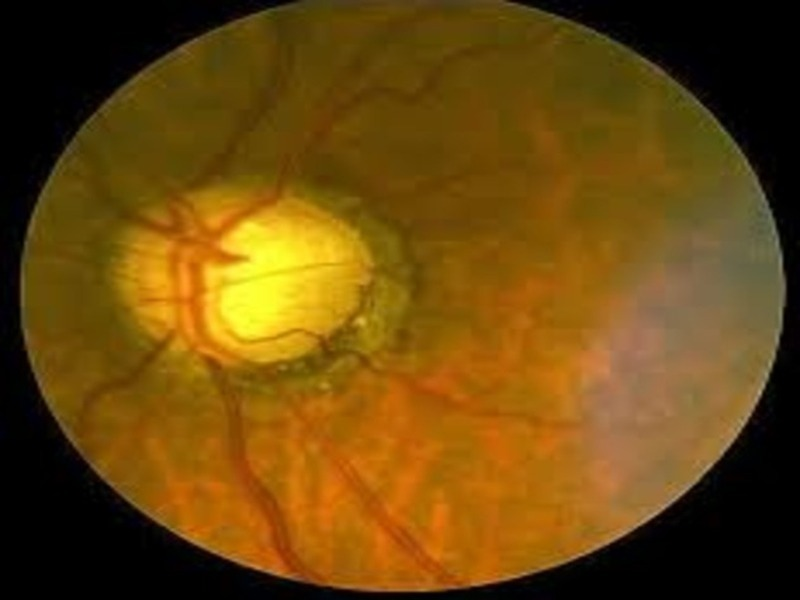Optic Cup: (216, 219, 312, 339)
Optic Disc: (107, 174, 420, 394)
